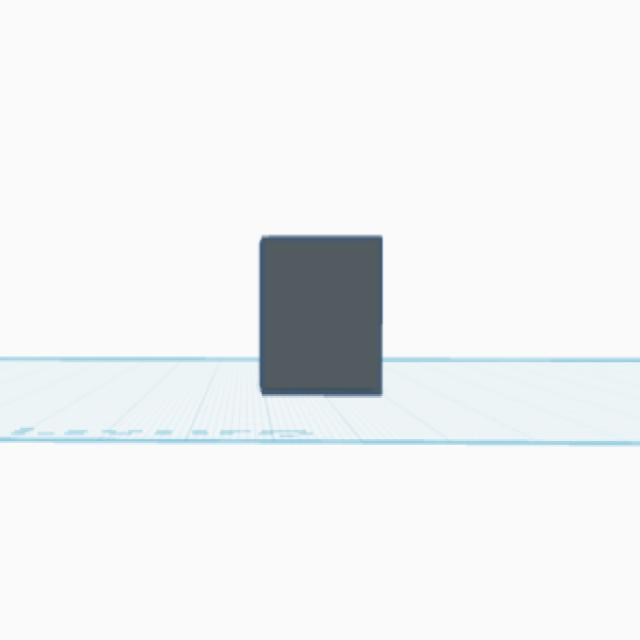cube: (252, 226, 387, 404)
